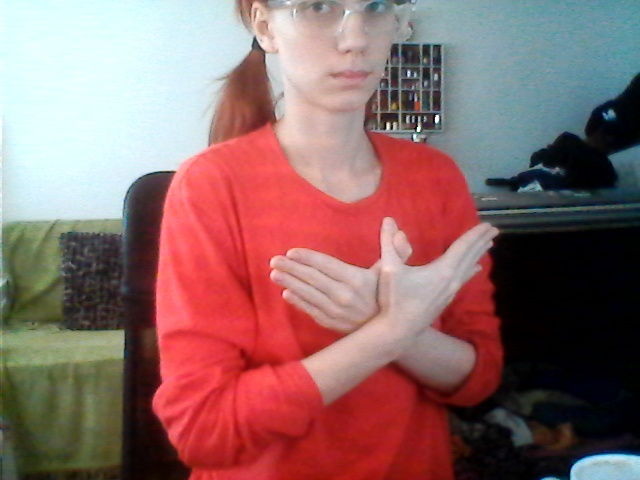lekar: (256, 208, 509, 389)
